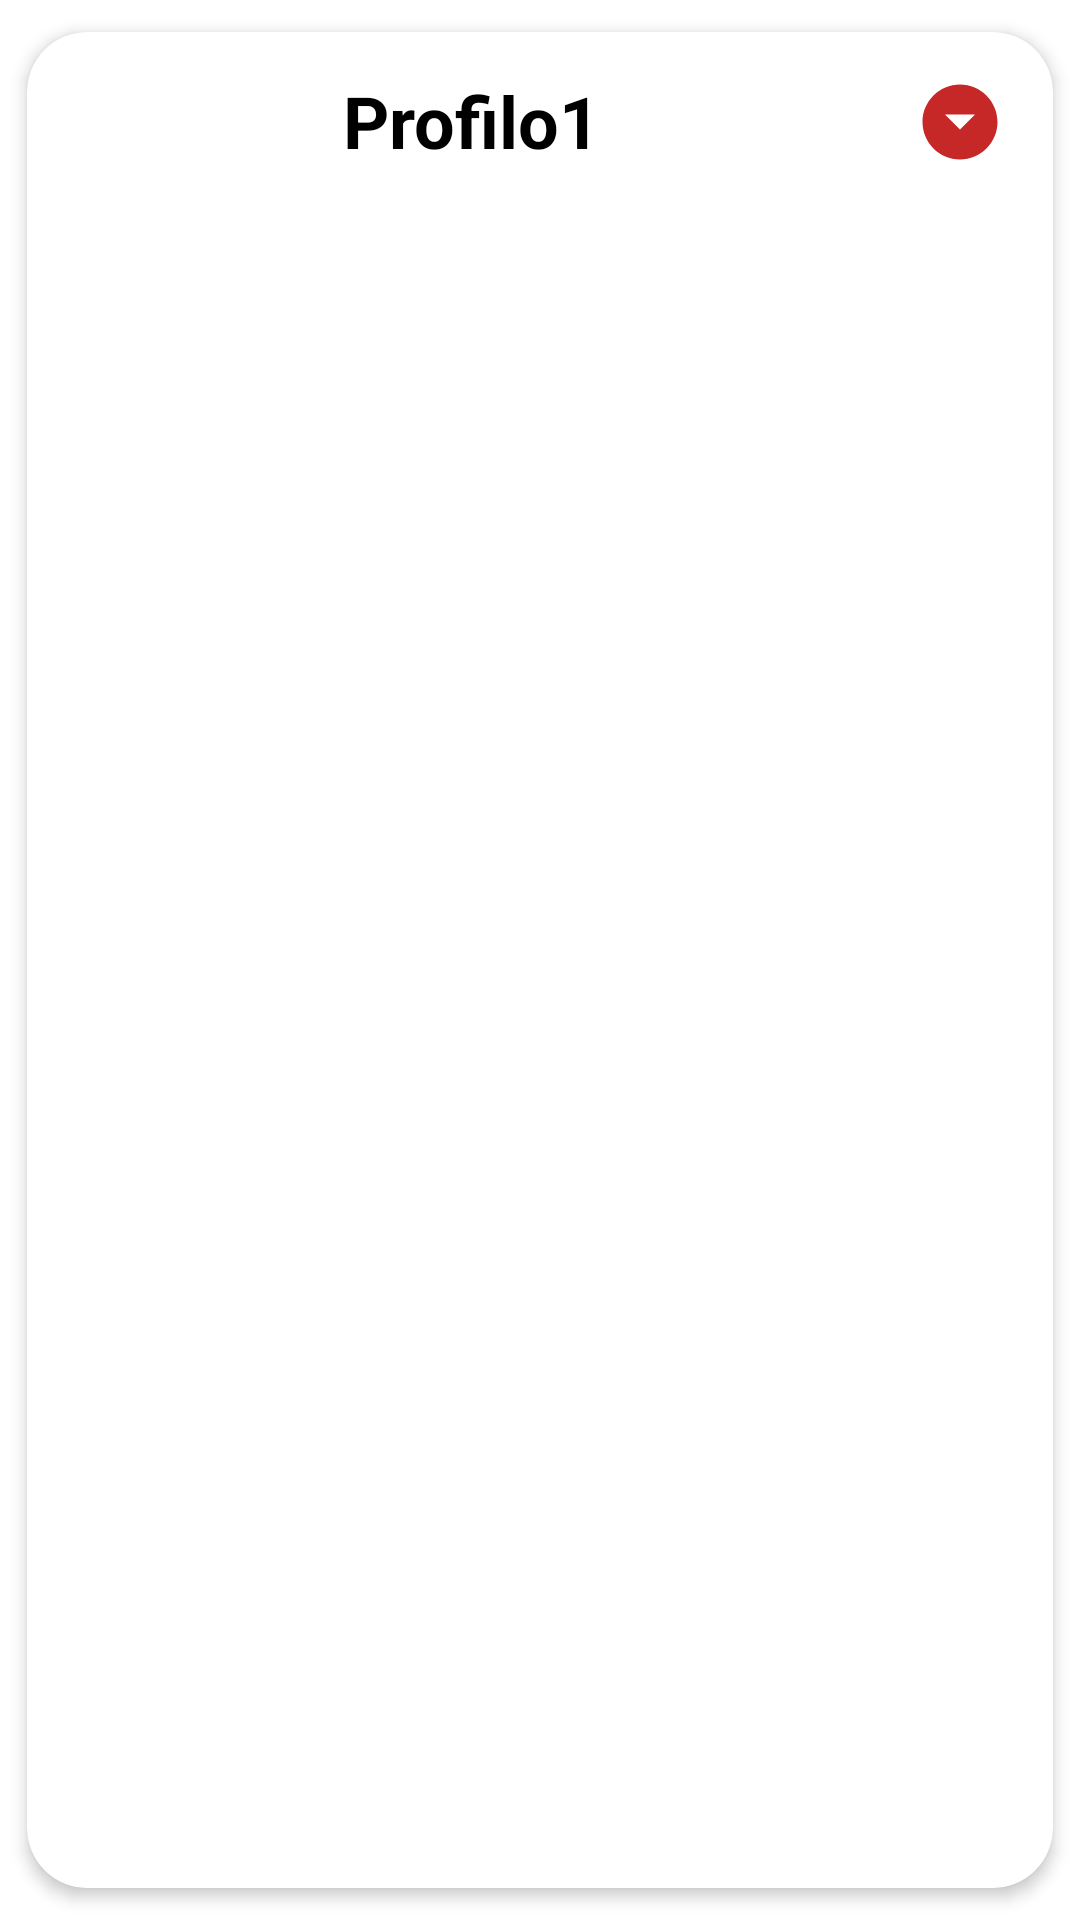

Screen size 1080 x 1920. Icon name, then its box in pixels as (x1, y1, x2, y2):
arrow drop down circle: (922, 84, 998, 160)
